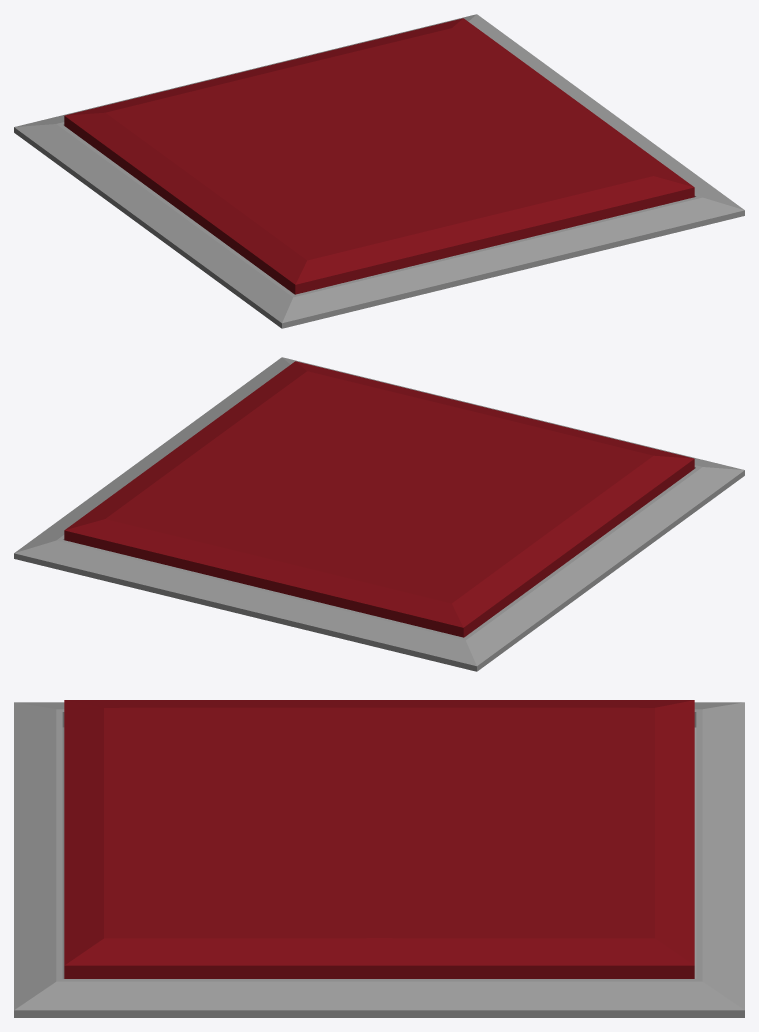
Rendered from ShapeKey pressure Plate lowPolyFlat.fbx.
3 views of the same model, one above another, from view 1: azimuth 30°, elevation 25°; view 2: azimuth 150°, elevation 25°; view 3: azimuth 270°, elevation 25° (orthographic). The views are drawn at different scales.
Parts seen in each view (by area): view 1: Cube; view 2: Cube; view 3: Cube.
Boxes of the visible parts, x1,y1,x2,y2 form: Cube: [14, 14, 744, 328]; Cube: [14, 357, 744, 671]; Cube: [14, 700, 744, 1017].
Bounding box in the file's own units: 338 × 21.21 × 339.
